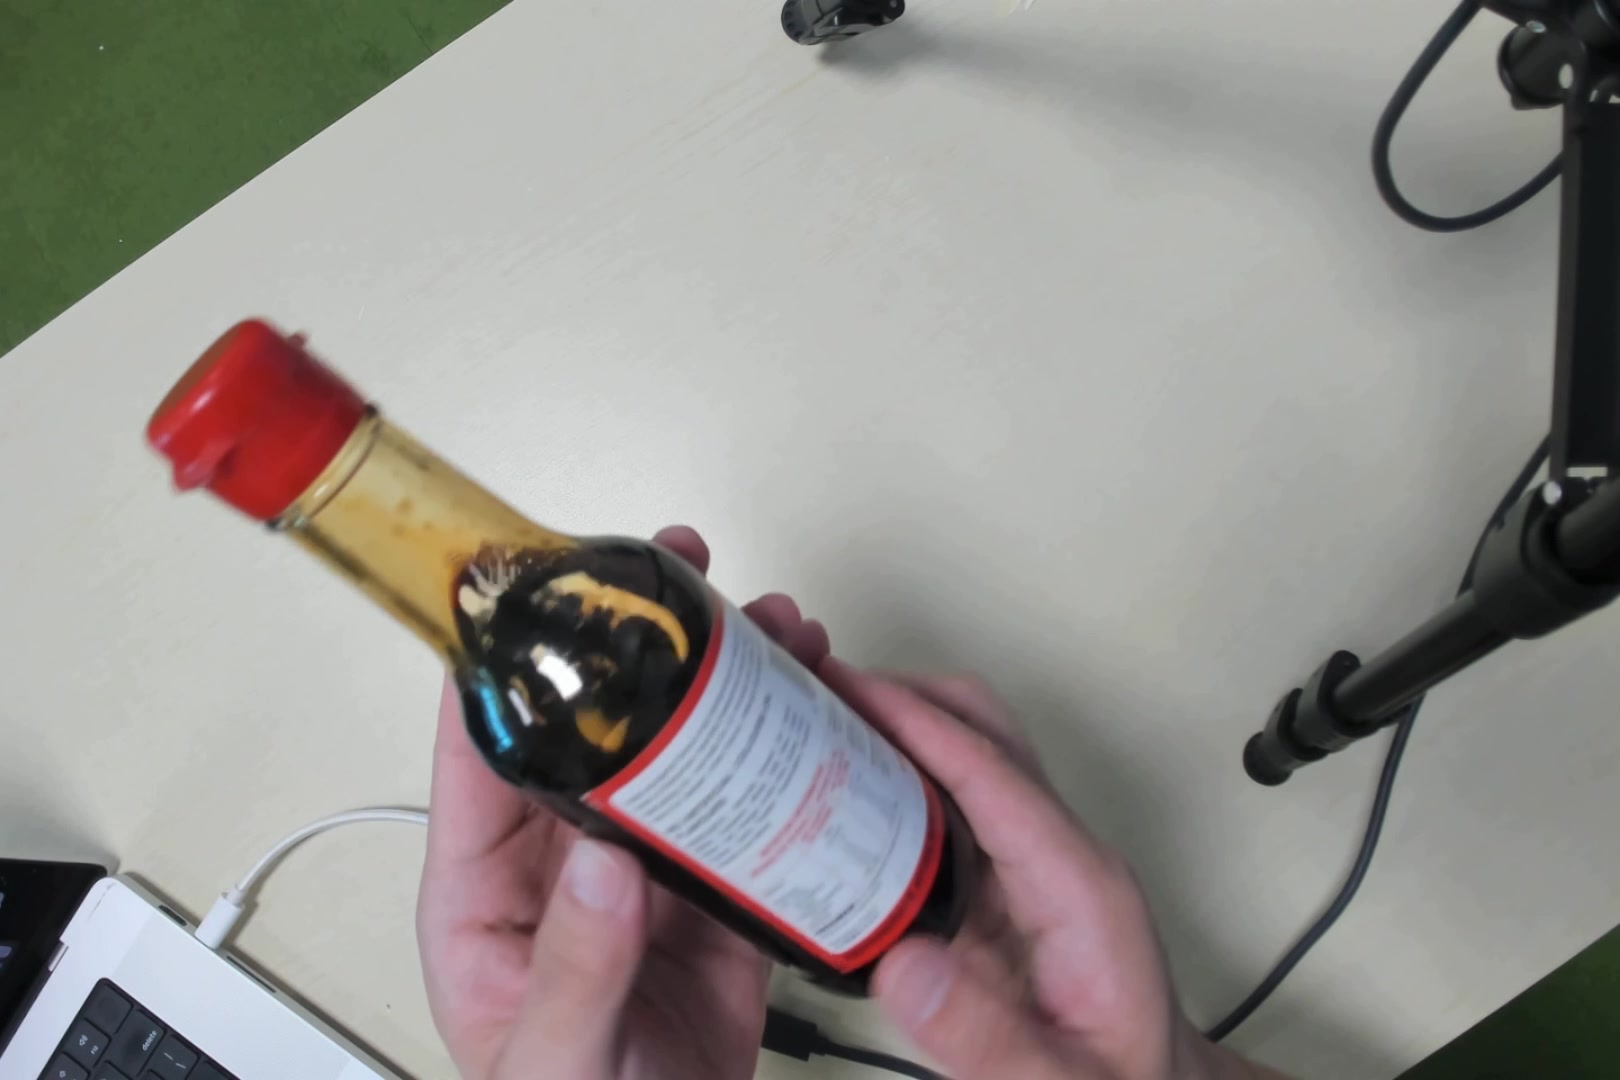OtherSauceDressingSoupbasePaste_200-299g_NonHalal_NonHealthy: (318, 419, 917, 967)
